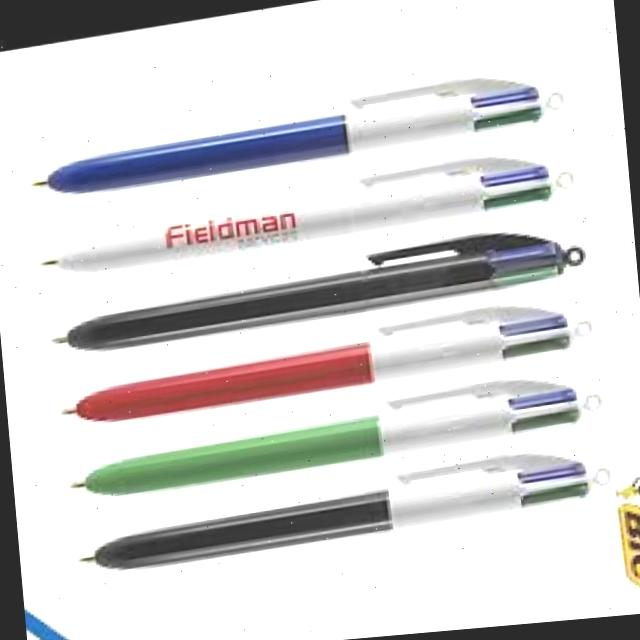Pen - Non Recyclable: (26, 58, 574, 199), (62, 362, 612, 502), (54, 289, 602, 428), (30, 138, 582, 274), (71, 436, 618, 573), (44, 218, 594, 354)
